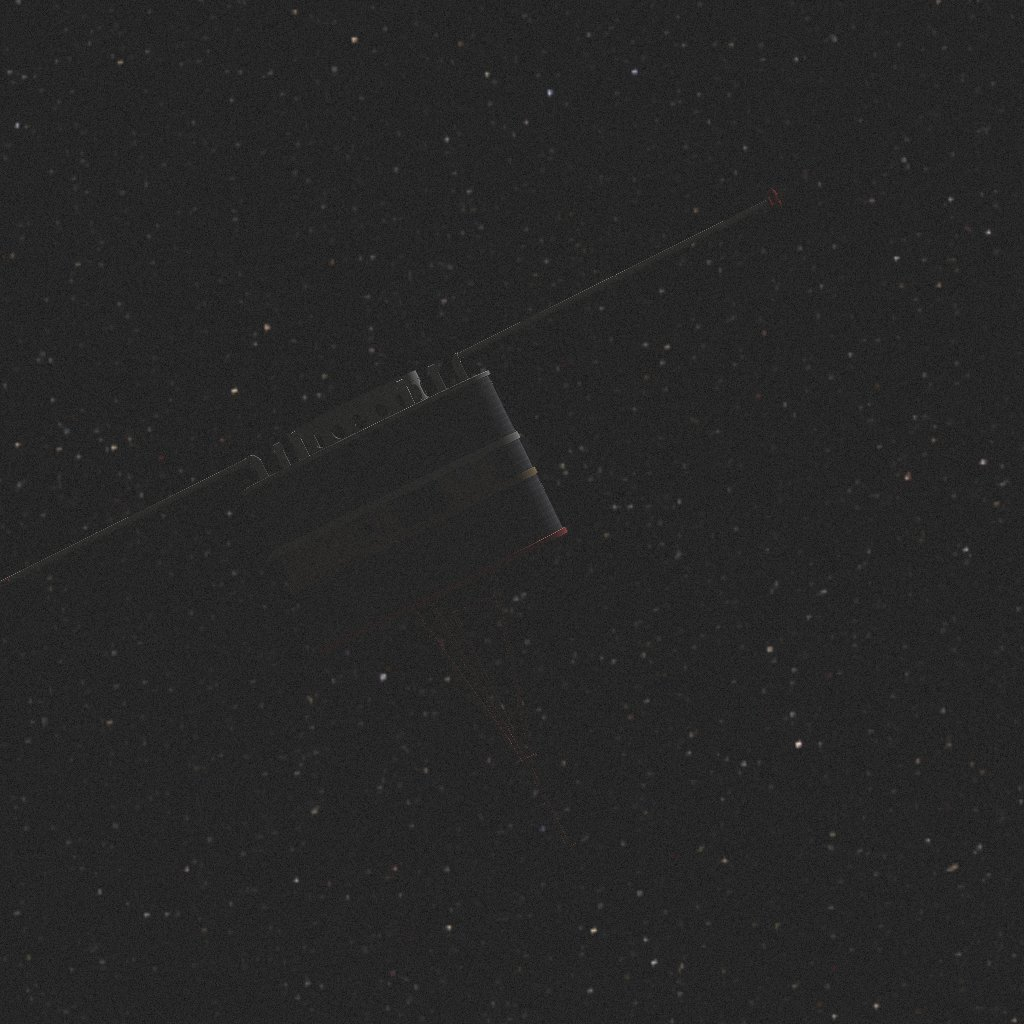double_star: (0, 188, 783, 856)
